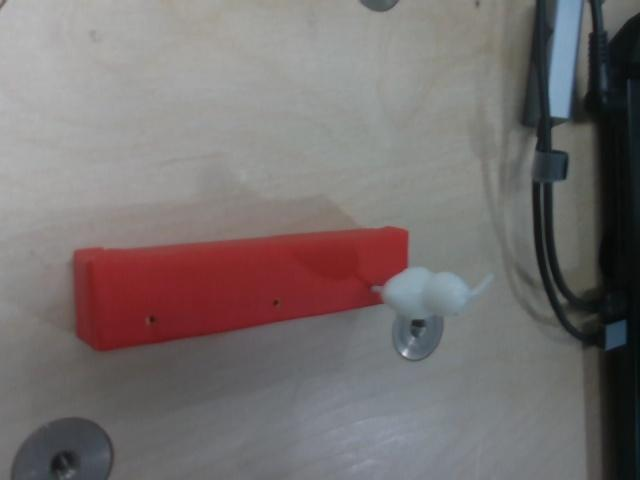w_duck: (365, 256, 502, 330)
